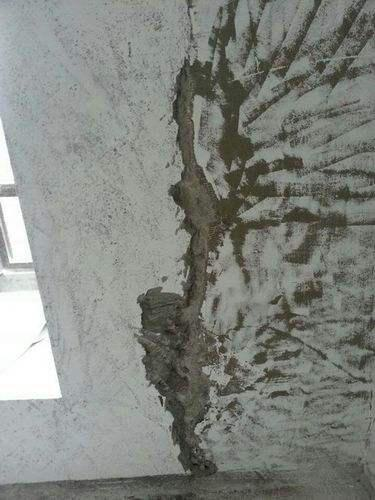Spalling: (132, 1, 375, 477)
